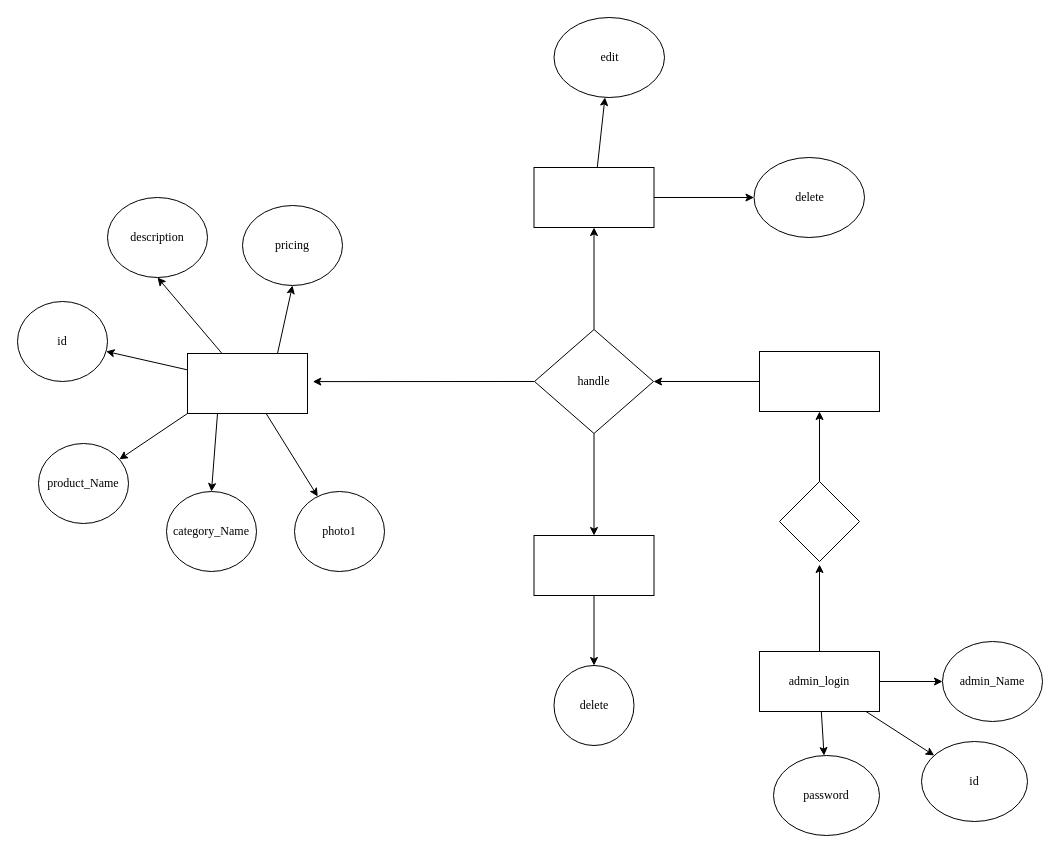
The diagram is 1060 pixels wide and 853 high, and some of its shapes have lost their labels. The box of each missing label's shape, as (x1, y1, x2, y2) in pixels:
add_Products: (186, 352, 308, 414)
admin dashboard: (758, 350, 880, 412)
coustomer_Query: (533, 534, 654, 596)
manage: (778, 480, 860, 562)
view_Product: (533, 166, 654, 228)
